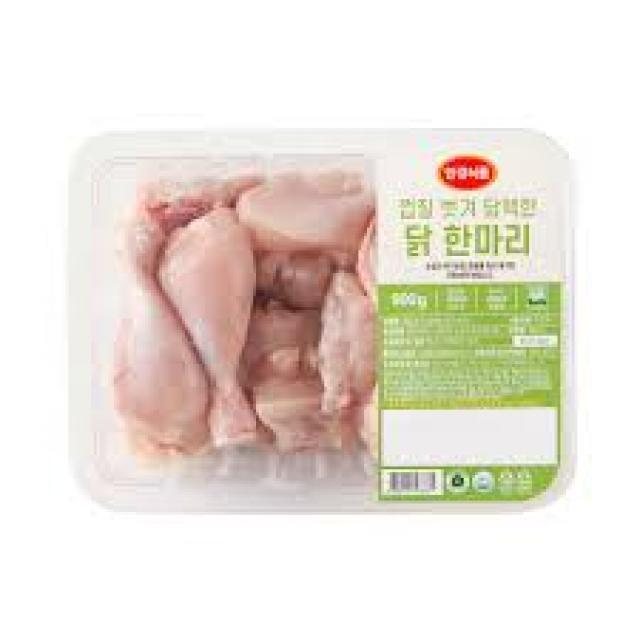chicken: (92, 142, 596, 522)
